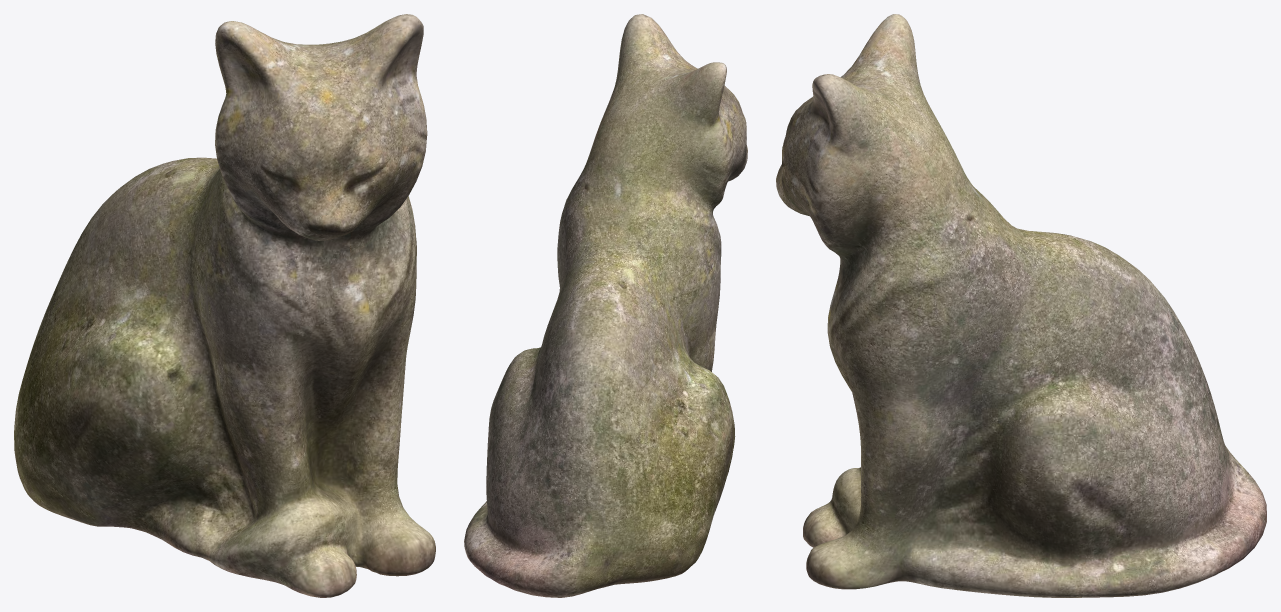
The model's file is estatua.glb.
3 renders of one model, left to right at view 1: azimuth 30°, elevation 25°; view 2: azimuth 150°, elevation 25°; view 3: azimuth 270°, elevation 25°, orthographic. The views are drawn at different scales.
Visible parts, largest first — view 1: cat_statue; view 2: cat_statue; view 3: cat_statue.
Boxes of the visible parts, box(x1,y1,x2,y2) form: cat_statue: box(14, 14, 435, 597); cat_statue: box(464, 14, 747, 597); cat_statue: box(776, 14, 1266, 597).
Bounding box in the file's own units: 0.153 × 0.283 × 0.25.
1 material, 1 textured.
